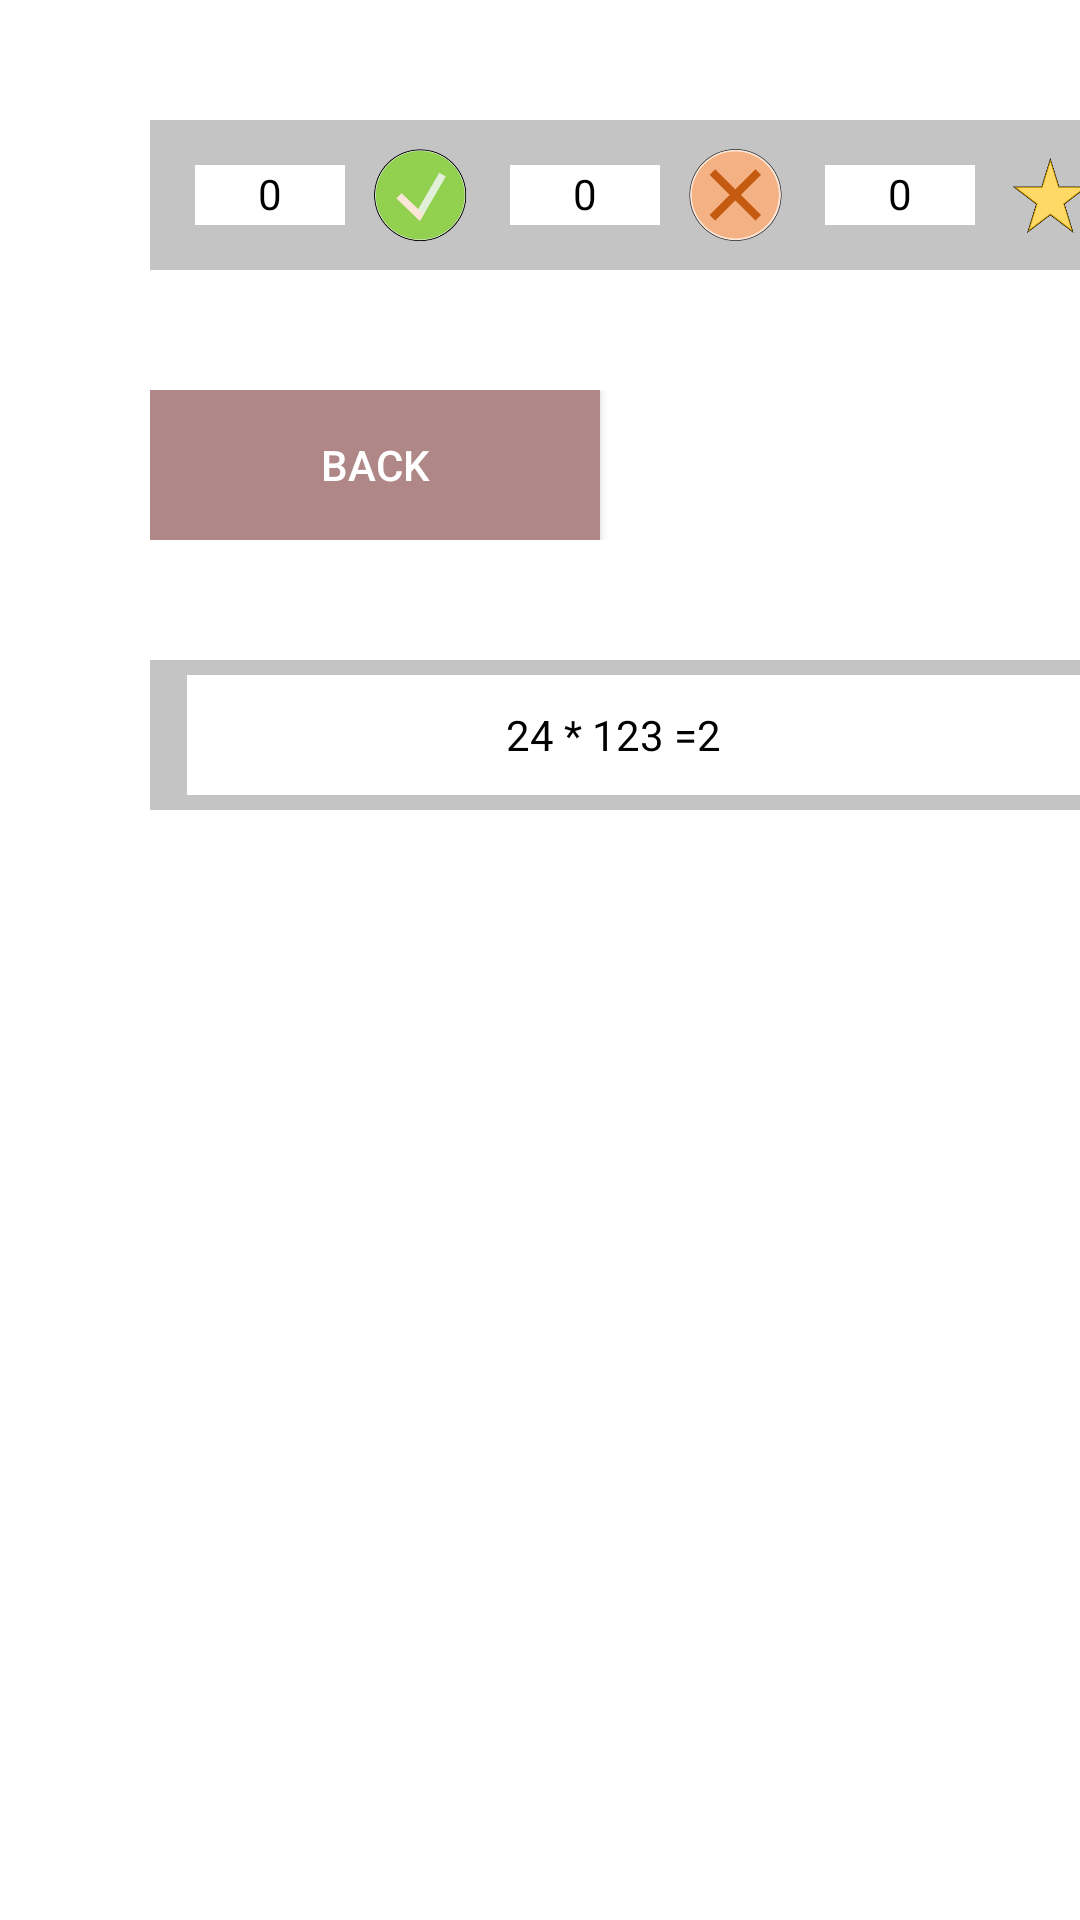

Named icons in this screenshot (1080×1920) and their bounding boxes, (x1, y1, x2, y2):
checked pic: (374, 149, 466, 241)
wrong pic: (689, 149, 782, 241)
